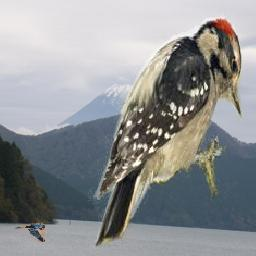Crow: (15, 222, 46, 243)
Woodpecker: (82, 14, 243, 255)
